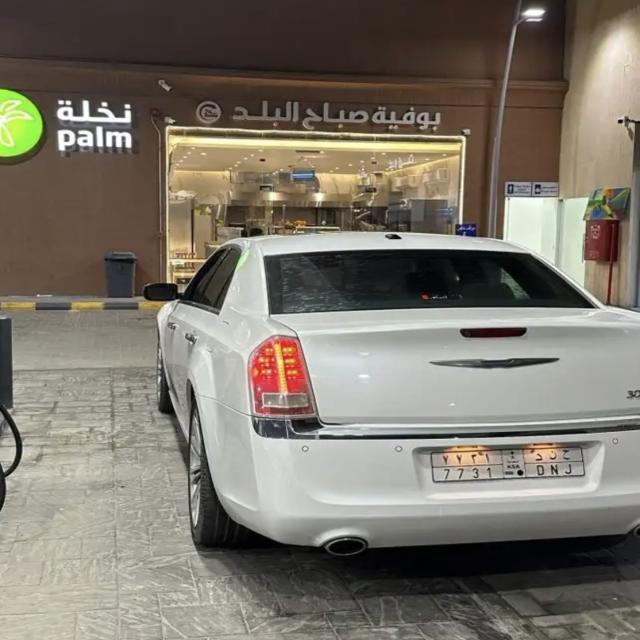license_plate: (431, 446, 586, 480)
